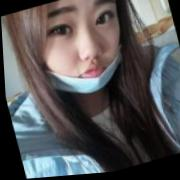WRONG: (27, 1, 136, 107)
